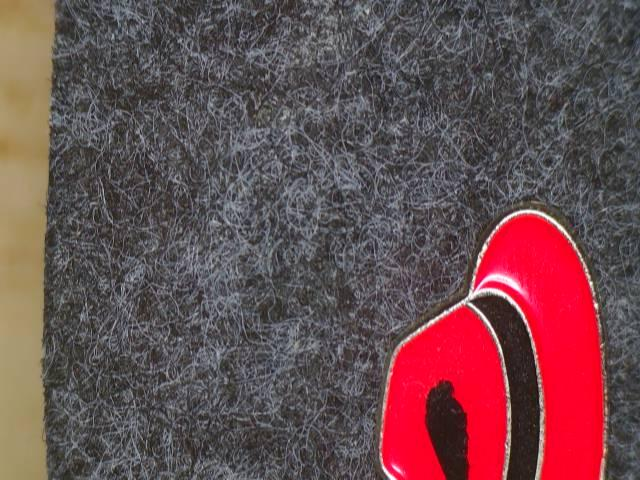Red-Hat: (321, 183, 640, 480)
Scratch: (411, 369, 489, 480)
